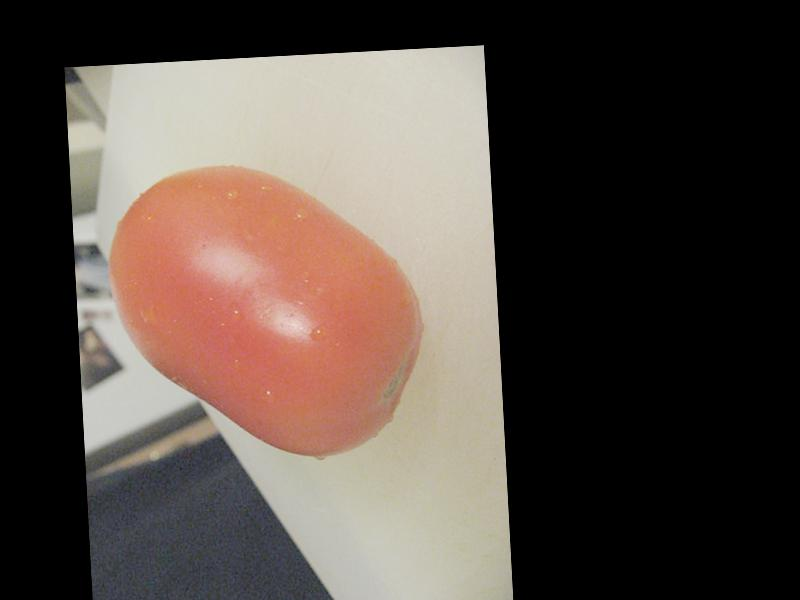Tomato: (102, 156, 427, 468)
